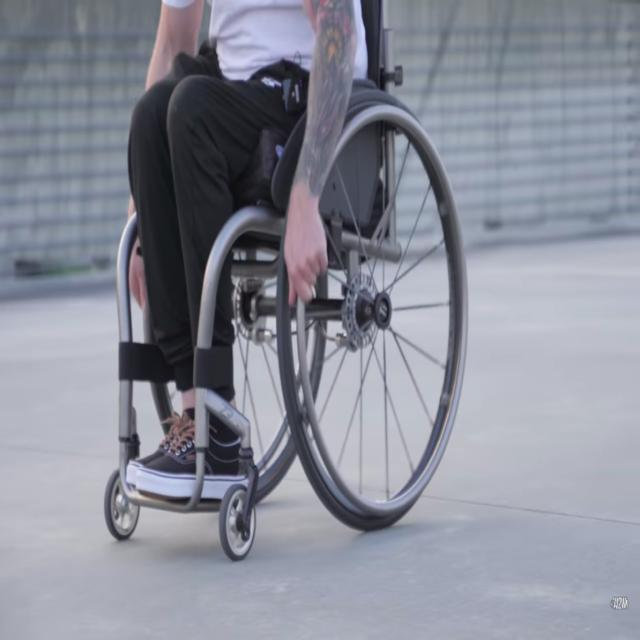wheelchairs: (114, 49, 470, 564)
